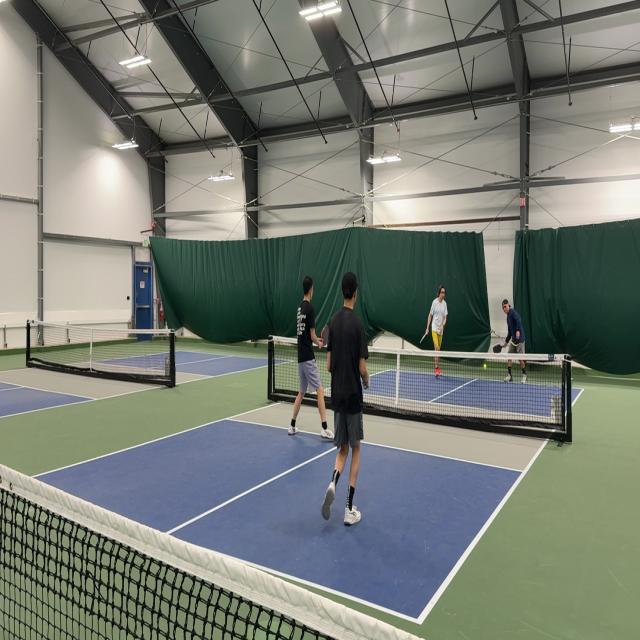ball: (483, 362, 487, 370)
